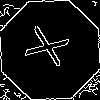X: (24, 24, 79, 72)
